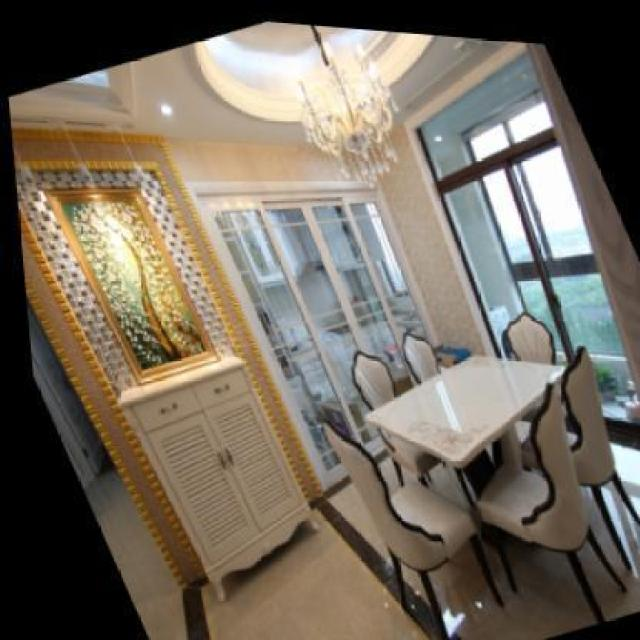tables: (363, 354, 568, 608)
